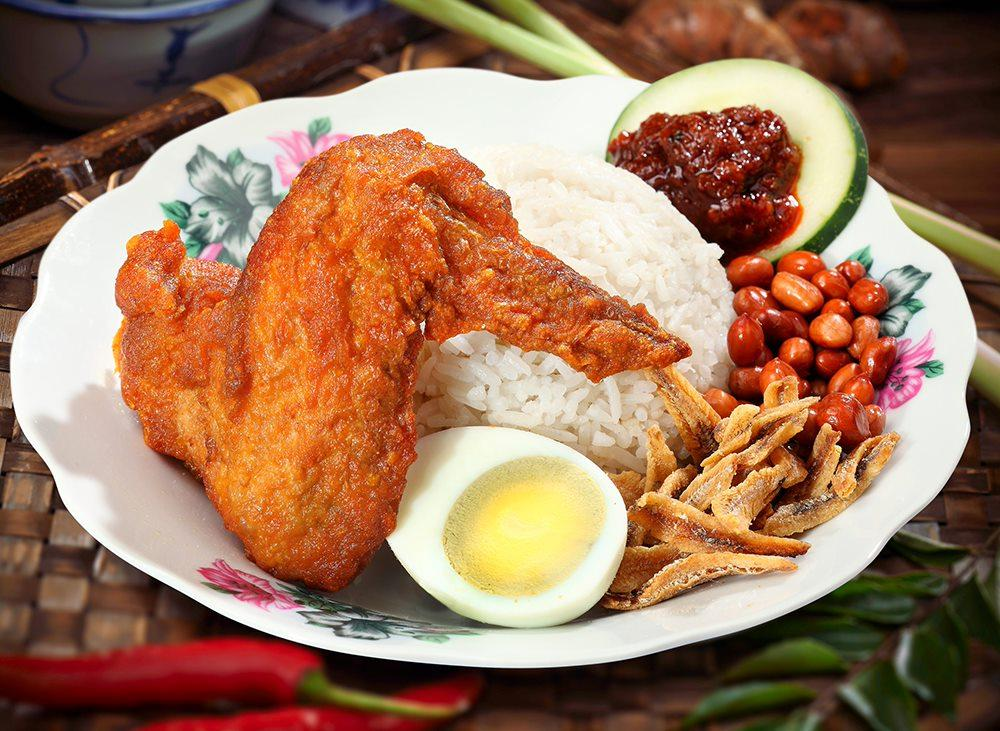Anchovies: (591, 374, 901, 615)
Boiled-Egg: (388, 427, 629, 628)
Cucumber: (602, 61, 867, 263)
Fried-Chicken: (116, 140, 697, 594)
Peanuts: (728, 262, 897, 446)
Rice: (416, 147, 738, 458)
Sambal: (602, 107, 799, 261)
